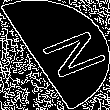N_SW: (14, 26, 96, 84)
